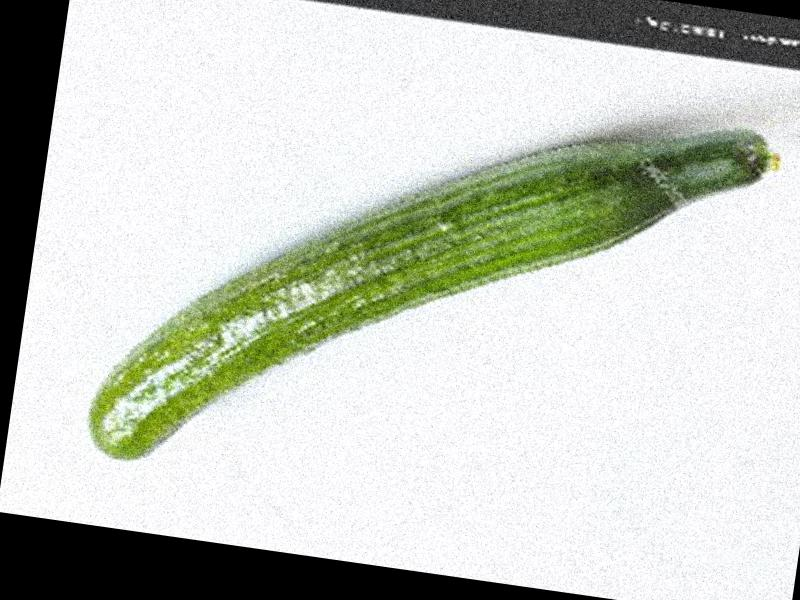Cucumber: (87, 49, 783, 545)
